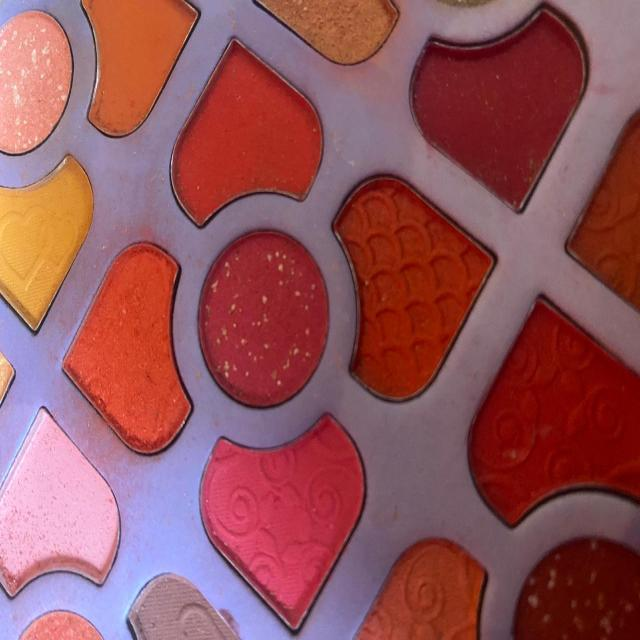eye shade: (396, 0, 606, 218), (455, 289, 640, 534), (326, 150, 496, 413), (192, 414, 373, 620), (164, 25, 331, 229), (57, 243, 198, 454), (187, 214, 335, 412), (0, 401, 127, 602), (564, 87, 640, 331)
